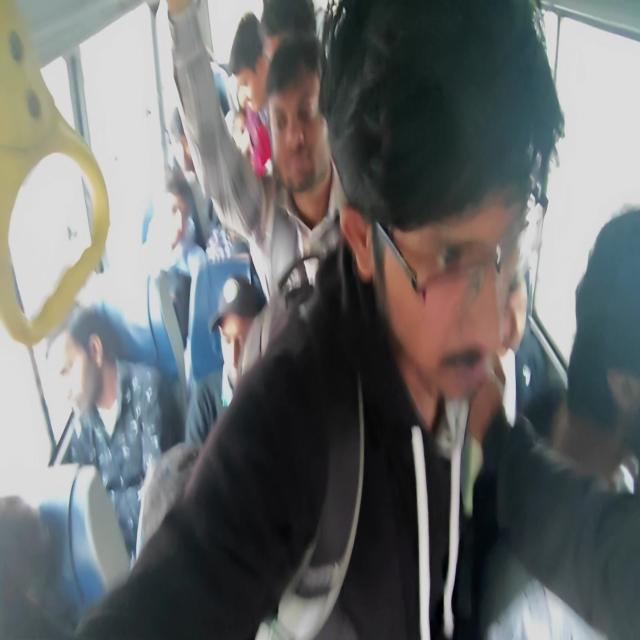person: (338, 17, 572, 450), (594, 217, 640, 520), (147, 462, 234, 621), (47, 312, 132, 446), (259, 49, 333, 168), (0, 507, 53, 640), (215, 276, 268, 376), (230, 23, 277, 128), (165, 102, 213, 186), (258, 0, 312, 62), (153, 189, 192, 260)
